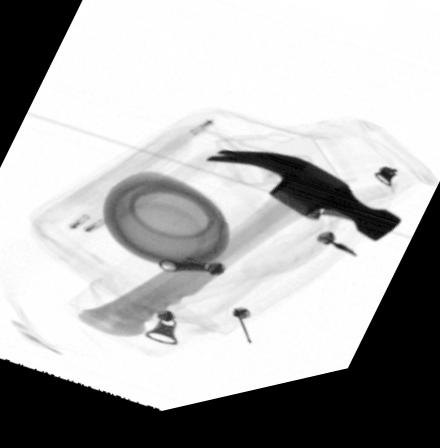Hammer: (76, 159, 404, 343)
